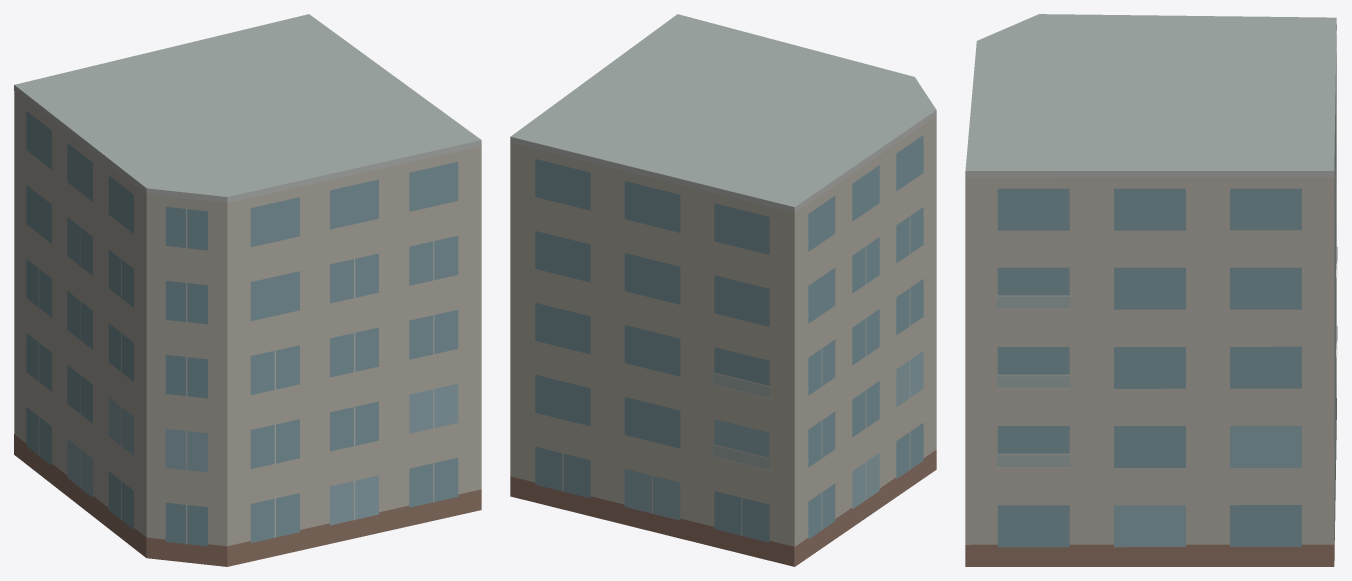
File: survey-upis-32970632.glb
The picture shows the model from 3 angles, left to right: view 1: azimuth 30°, elevation 25°; view 2: azimuth 150°, elevation 25°; view 3: azimuth 270°, elevation 25°; orthographic projection. The views are drawn at different scales.
Visible parts, largest first — view 1: survey-upis-32970632.tmp; view 2: survey-upis-32970632.tmp; view 3: survey-upis-32970632.tmp.
Part boxes in pixels (left/top/right/bottom): survey-upis-32970632.tmp: left=14, top=14, right=481, bottom=566; survey-upis-32970632.tmp: left=510, top=14, right=936, bottom=566; survey-upis-32970632.tmp: left=965, top=14, right=1337, bottom=566.
Bounding box in the file's own units: 12.81 × 15 × 12.79.
